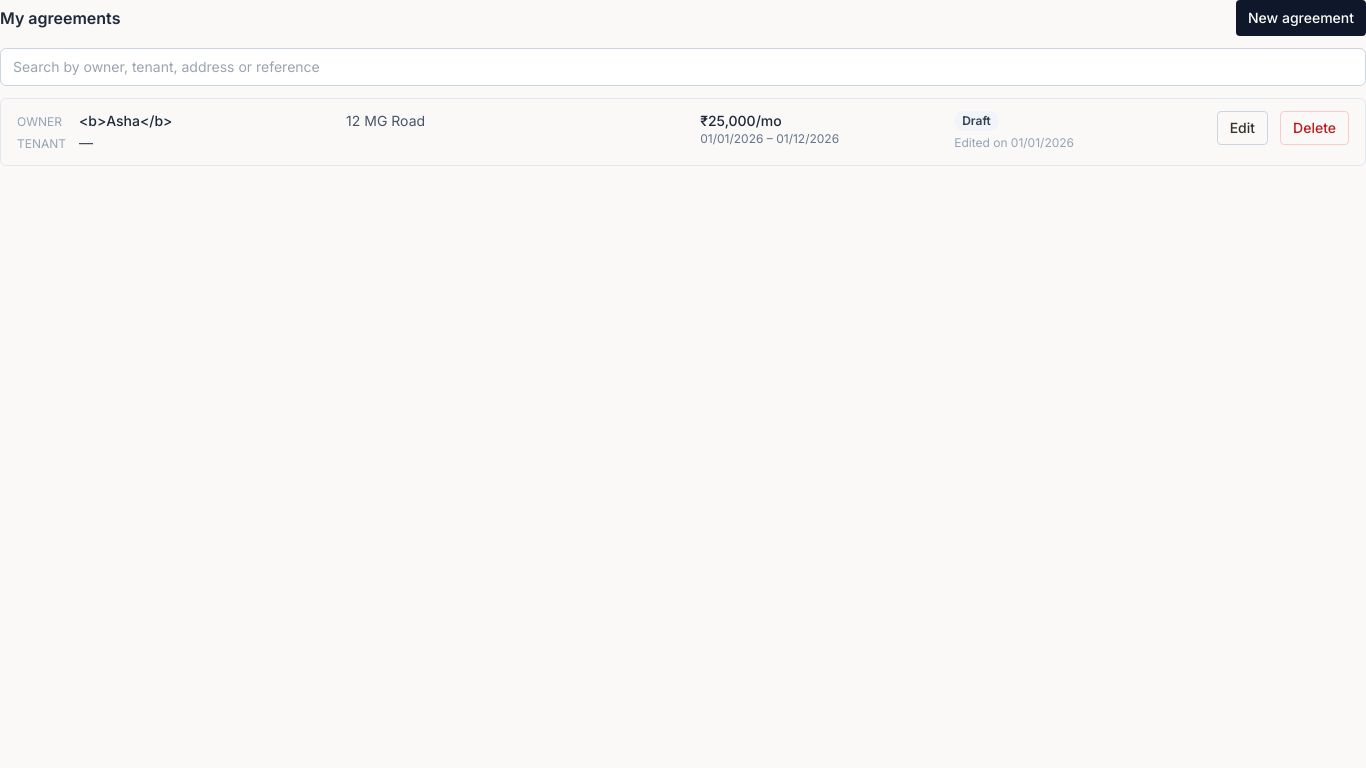
Test: MyAgreements › delete › opens a dialog naming the agreement, as text, without toggling the row
Click the button with test id "delete-d1". click: {"x": 1315, "y": 128}
box: [1280,111,1349,145]
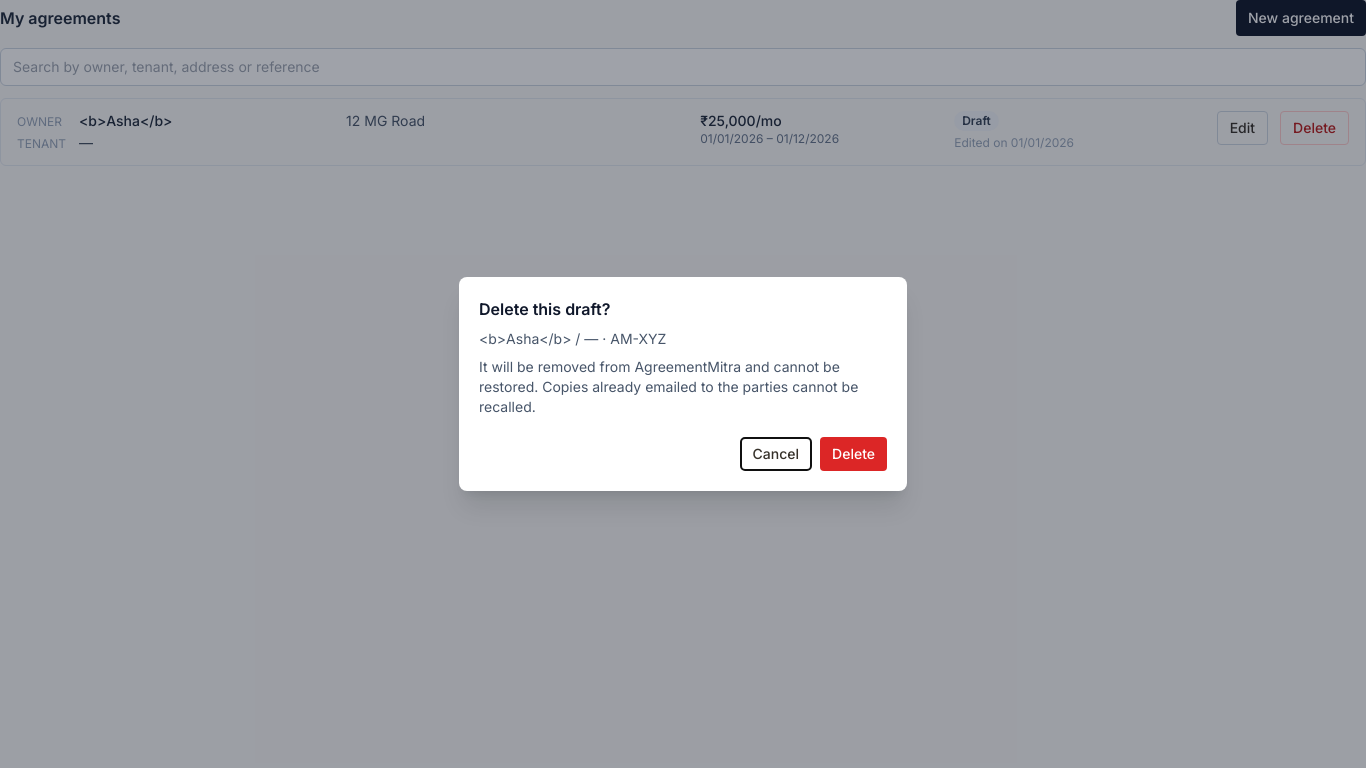
Expected: the dialog with test id "confirm-dialog" shows "cannot be restored", [479,358,858,415]
Expected: the dialog with test id "confirm-dialog" shows "Copies already emailed to the parties cannot be recalled", [479,358,858,415]
